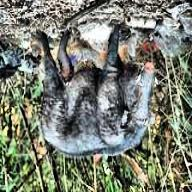boar: (21, 9, 159, 171)
